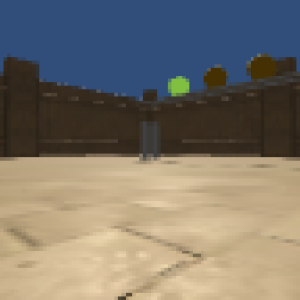goodGoal: (166, 75, 194, 98)
goodGoalMulti: (249, 56, 281, 81), (202, 69, 229, 88)
wall: (141, 115, 161, 162)
